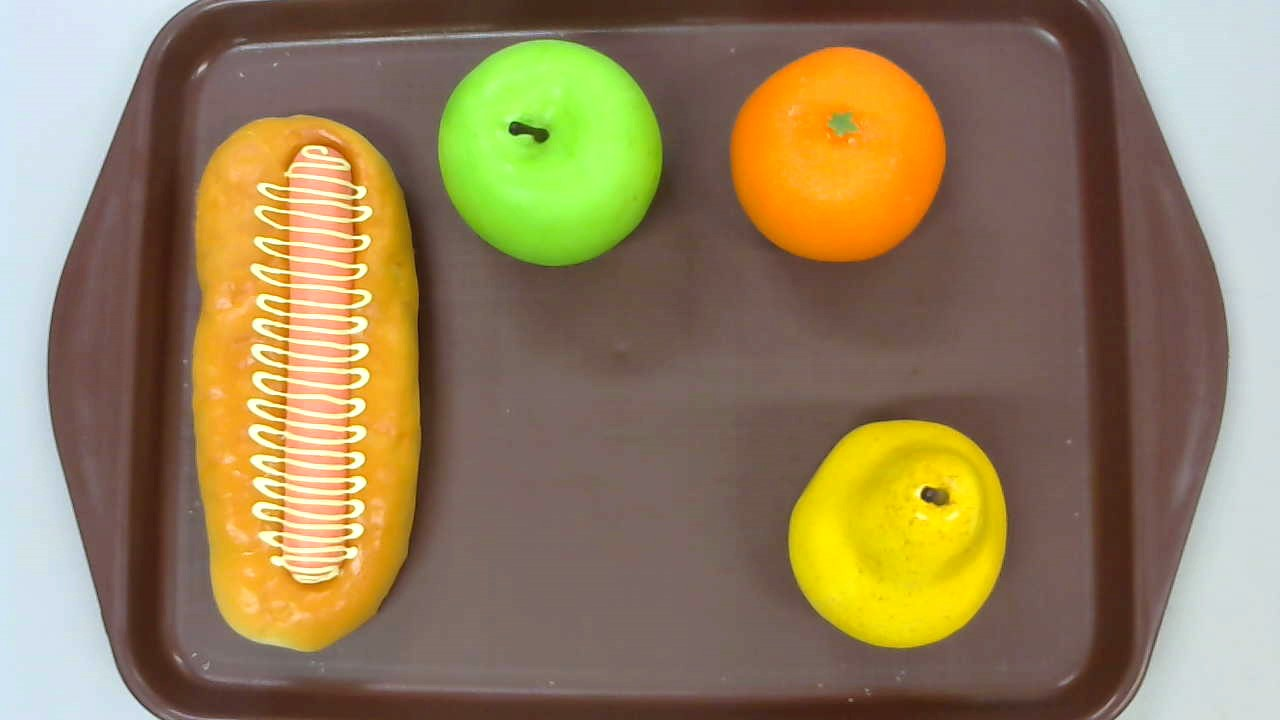green apple: (437, 40, 663, 266)
hot dog: (191, 114, 421, 651)
orange: (730, 47, 946, 262)
yellow pear: (789, 420, 1007, 647)
